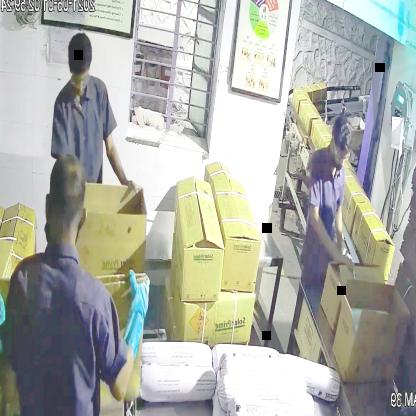goggles: (330, 144, 353, 165)
